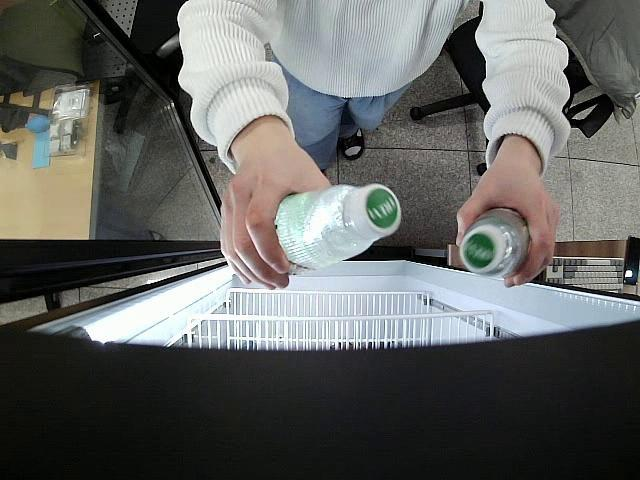18_trevi: (276, 182, 404, 270), (458, 206, 532, 278)
